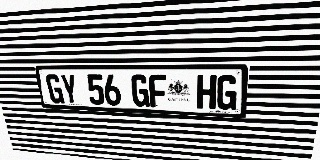5: (86, 74, 106, 105)
6: (102, 74, 122, 106)
F: (148, 75, 167, 108)
G: (216, 75, 238, 110), (131, 75, 150, 107), (45, 74, 64, 104)
H: (197, 75, 217, 110)
Y: (60, 74, 79, 104)
